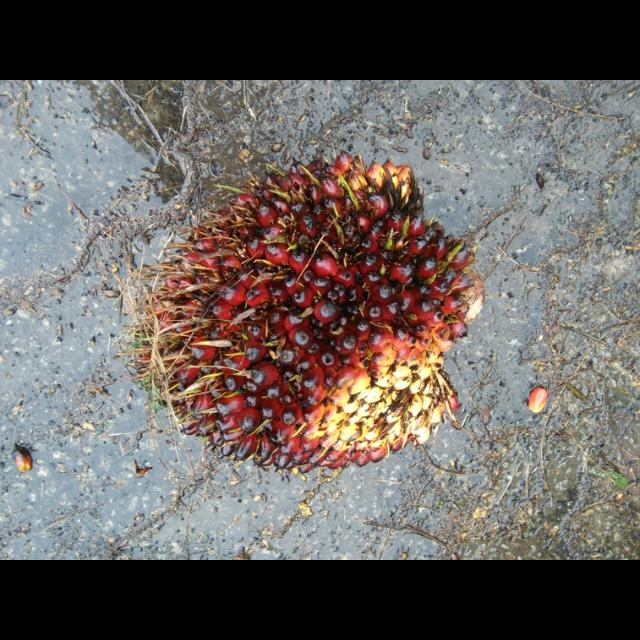Ripe: (134, 158, 497, 474)
